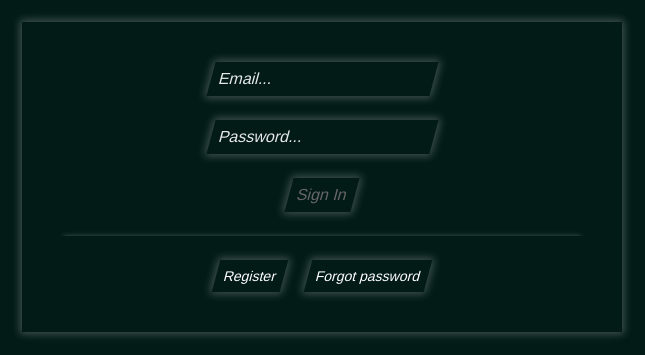
Test: LoginForm component › Test actions › should enable Sign In button after writing appropriate length credentials
Type "test@test.com" into the field with placeholder "Email...".
click(322, 79); type("test@test.com")  # box [206,62,438,96]
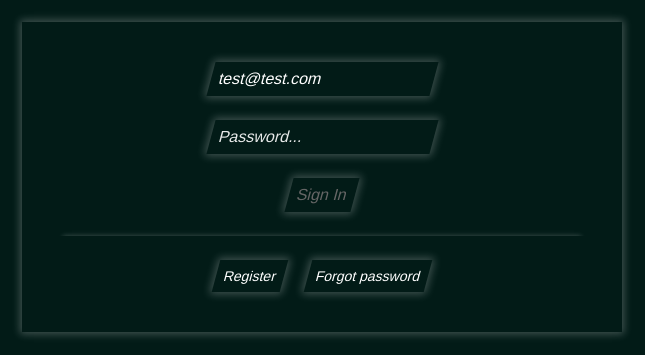
Type "12345678" into the password field with placeholder "Password...".
click(322, 137); type("12345678")  # box [206,120,438,154]
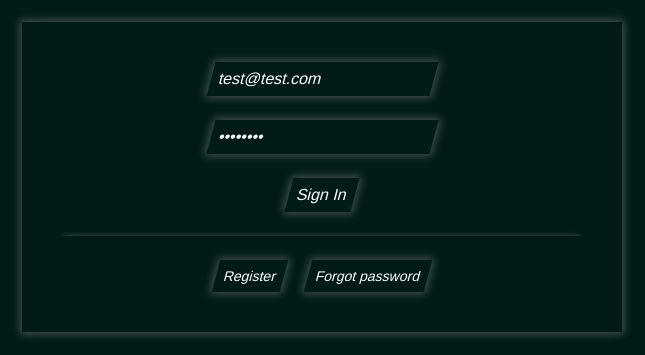
Expected: the button "Sign In" is enabled, [284,178,359,212]
